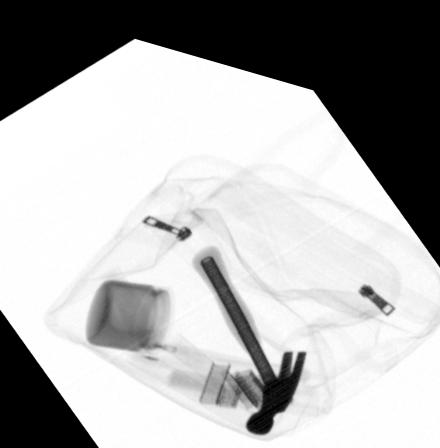Hammer: (190, 232, 309, 421)
